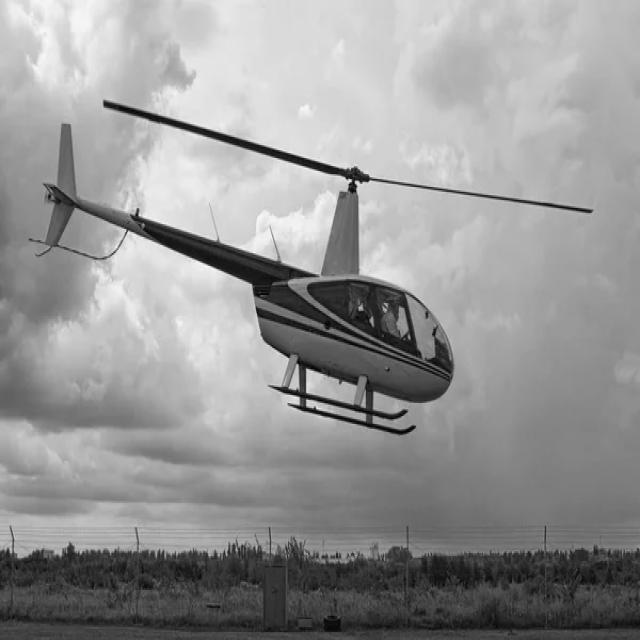Helicopter: (38, 102, 594, 436)
